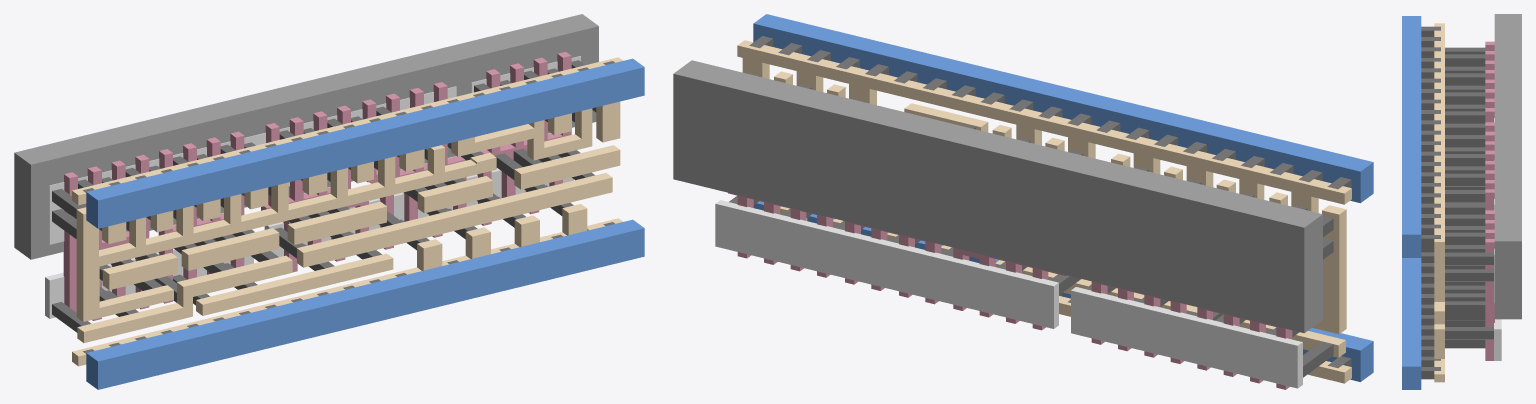
File: sky130_fd_sc_hd__o2111ai_4.gds.gltf
3 renders of one model, left to right at view 1: azimuth 30°, elevation 25°; view 2: azimuth 150°, elevation 25°; view 3: azimuth 270°, elevation 25°, orthographic. The views are drawn at different scales.
Parts seen in each view (by area): view 1: sky130_fd_sc_hd__o2111ai_4_li1, sky130_fd_sc_hd__o2111ai_4_met1, sky130_fd_sc_hd__o2111ai_4_nwell, sky130_fd_sc_hd__o2111ai_4_poly, sky130_fd_sc_hd__o2111ai_4_licon, sky130_fd_sc_hd__o2111ai_4_diff, sky130_fd_sc_hd__o2111ai_4_mcon; view 2: sky130_fd_sc_hd__o2111ai_4_nwell, sky130_fd_sc_hd__o2111ai_4_diff, sky130_fd_sc_hd__o2111ai_4_li1, sky130_fd_sc_hd__o2111ai_4_met1, sky130_fd_sc_hd__o2111ai_4_poly, sky130_fd_sc_hd__o2111ai_4_mcon, sky130_fd_sc_hd__o2111ai_4_licon; view 3: sky130_fd_sc_hd__o2111ai_4_licon, sky130_fd_sc_hd__o2111ai_4_nwell, sky130_fd_sc_hd__o2111ai_4_met1, sky130_fd_sc_hd__o2111ai_4_mcon, sky130_fd_sc_hd__o2111ai_4_li1, sky130_fd_sc_hd__o2111ai_4_poly, sky130_fd_sc_hd__o2111ai_4_diff.
Part boxes in pixels (x1,y1,x2,y2): sky130_fd_sc_hd__o2111ai_4_li1: (72,57,622,366); sky130_fd_sc_hd__o2111ai_4_met1: (86,58,644,389); sky130_fd_sc_hd__o2111ai_4_nwell: (14,14,598,259); sky130_fd_sc_hd__o2111ai_4_poly: (63,52,571,320); sky130_fd_sc_hd__o2111ai_4_licon: (52,60,596,332); sky130_fd_sc_hd__o2111ai_4_diff: (45,56,580,318); sky130_fd_sc_hd__o2111ai_4_mcon: (83,61,614,353); sky130_fd_sc_hd__o2111ai_4_nwell: (673,60,1322,333); sky130_fd_sc_hd__o2111ai_4_diff: (715,200,1302,388); sky130_fd_sc_hd__o2111ai_4_li1: (737,40,1351,383); sky130_fd_sc_hd__o2111ai_4_met1: (753,14,1373,381); sky130_fd_sc_hd__o2111ai_4_poly: (728,192,1292,389); sky130_fd_sc_hd__o2111ai_4_mcon: (749,36,1351,367); sky130_fd_sc_hd__o2111ai_4_licon: (729,73,1333,377); sky130_fd_sc_hd__o2111ai_4_licon: (1445,47,1493,348); sky130_fd_sc_hd__o2111ai_4_nwell: (1494,14,1521,319); sky130_fd_sc_hd__o2111ai_4_met1: (1402,16,1421,389); sky130_fd_sc_hd__o2111ai_4_mcon: (1421,26,1440,379); sky130_fd_sc_hd__o2111ai_4_li1: (1434,23,1444,382); sky130_fd_sc_hd__o2111ai_4_poly: (1485,41,1494,360); sky130_fd_sc_hd__o2111ai_4_diff: (1494,118,1501,360).
Bounding box in the file's own units: 10.04 × 3.2 × 2.24.
